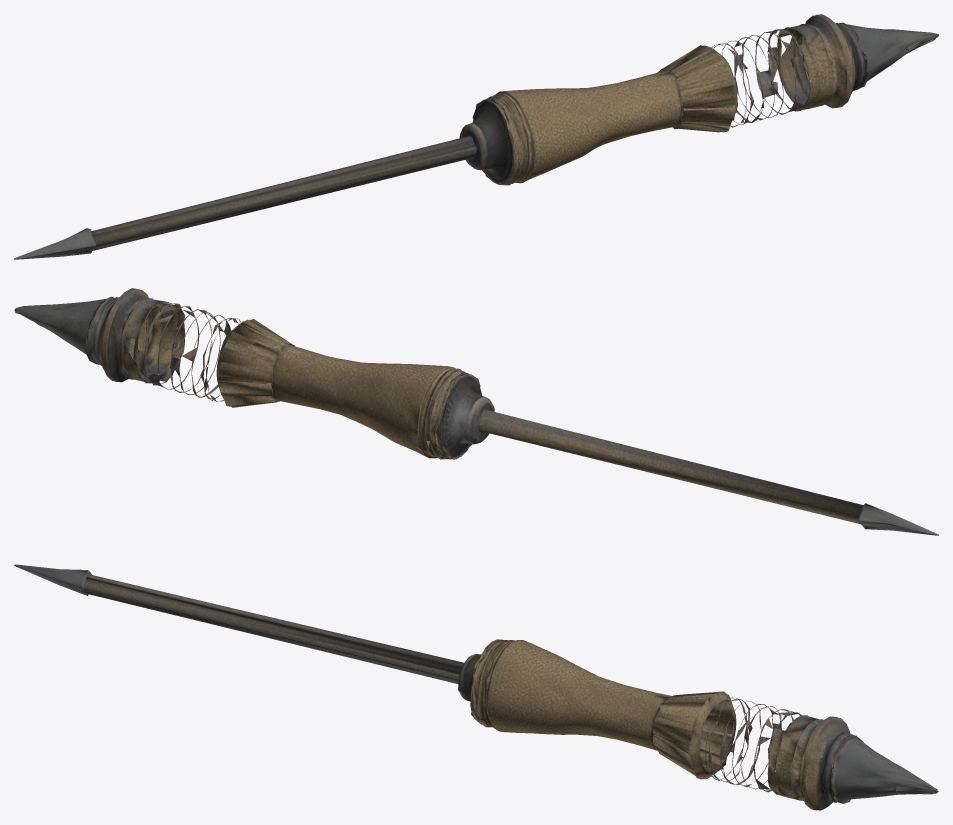
The model's file is dart.glb.
The picture shows the model from 3 angles, top to bottom: view 1: azimuth 30°, elevation 25°; view 2: azimuth 150°, elevation 25°; view 3: azimuth 330°, elevation 25°; orthographic projection.
Parts seen in each view (by area): view 1: midway-fit; view 2: midway-fit; view 3: midway-fit.
Boxes of the visible parts, bbox=[...] form: midway-fit: bbox=[14, 14, 938, 259]; midway-fit: bbox=[14, 288, 938, 535]; midway-fit: bbox=[14, 564, 938, 810].
Size of the model in its own units: 1 by 0.0889 by 0.09.
Materials: 1 (1 with a texture image).
